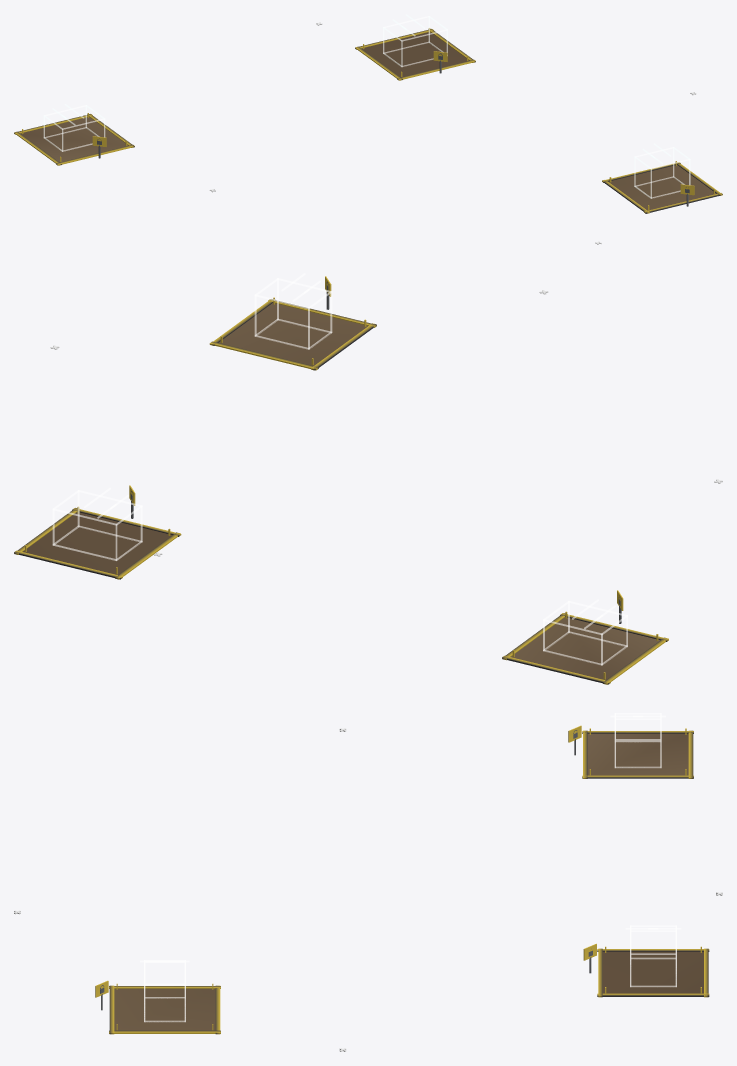
File: Sites_P1.fbx
3 views of the same model, one above another, from view 1: azimuth 30°, elevation 25°; view 2: azimuth 150°, elevation 25°; view 3: azimuth 270°, elevation 25° (orthographic). The views are drawn at different scales.
Visible parts, largest first — view 1: Site.store.Pad, Site.quarry.Pad, Site.plant.Pad, Site.store.Ghost, Site.plant.Ghost, Site.quarry.Ghost; view 2: Site.store.Pad, Site.quarry.Pad, Site.plant.Pad, Site.store.Ghost, Site.plant.Ghost, Site.quarry.Ghost; view 3: Site.plant.Pad, Site.store.Pad, Site.quarry.Pad, Site.store.Ghost, Site.quarry.Ghost, Site.plant.Ghost.
Boxes of the visible parts, x1=… form: Site.store.Pad: x1=355, y1=28, x2=475, y2=80; Site.quarry.Pad: x1=14, y1=113, x2=134, y2=165; Site.plant.Pad: x1=602, y1=161, x2=722, y2=213; Site.store.Ghost: x1=383, y1=14, x2=447, y2=66; Site.plant.Ghost: x1=634, y1=143, x2=690, y2=198; Site.quarry.Ghost: x1=43, y1=104, x2=105, y2=151; Site.store.Pad: x1=14, y1=506, x2=181, y2=579; Site.quarry.Pad: x1=502, y1=611, x2=668, y2=684; Site.plant.Pad: x1=209, y1=297, x2=376, y2=370; Site.store.Ghost: x1=52, y1=488, x2=142, y2=560; Site.plant.Ghost: x1=254, y1=273, x2=332, y2=349; Site.quarry.Ghost: x1=543, y1=599, x2=627, y2=665; Site.plant.Pad: x1=109, y1=983, x2=220, y2=1034; Site.store.Pad: x1=597, y1=946, x2=709, y2=997; Site.quarry.Pad: x1=582, y1=728, x2=693, y2=778; Site.store.Ghost: x1=625, y1=925, x2=681, y2=987; Site.quarry.Ghost: x1=610, y1=713, x2=665, y2=768; Site.plant.Ghost: x1=140, y1=960, x2=189, y2=1022.
Bounding box in the file's own units: 30934 × 2128 × 27869.
